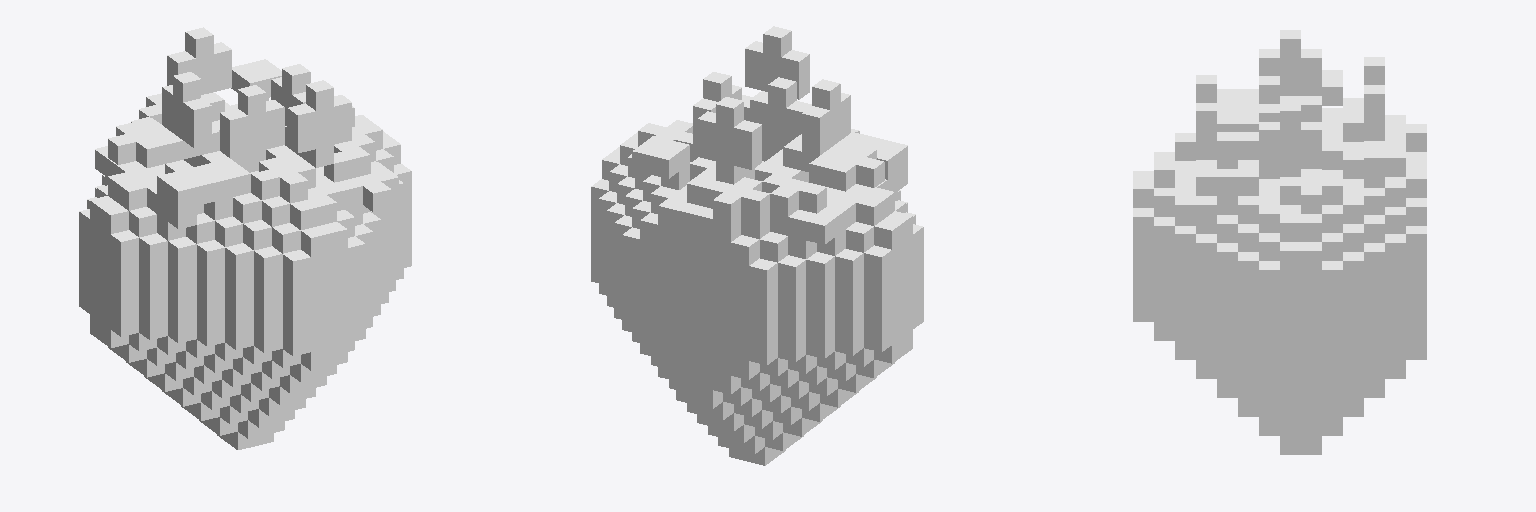
Rendered from StrawberryBase.obj.
3 renders of one model, left to right at view 1: azimuth 30°, elevation 25°; view 2: azimuth 150°, elevation 25°; view 3: azimuth 270°, elevation 25°, orthographic.
Parts seen in each view (by area): view 1: object 1; view 2: object 1; view 3: object 1.
Boxes of the visible parts, x1=… form: object 1: x1=79, y1=27, x2=411, y2=449; object 1: x1=591, y1=26, x2=923, y2=465; object 1: x1=1133, y1=30, x2=1426, y2=454.
Bounding box in the file's own units: 1.6 × 2 × 1.4.